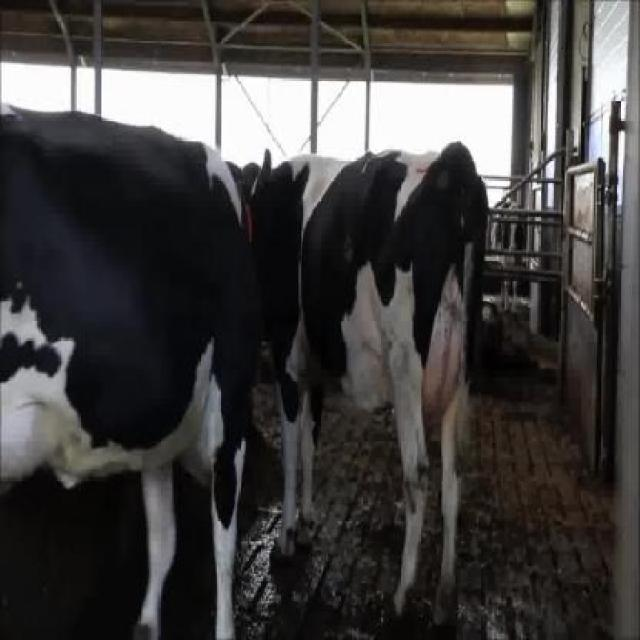Cow: (2, 101, 258, 638), (246, 140, 489, 629)
